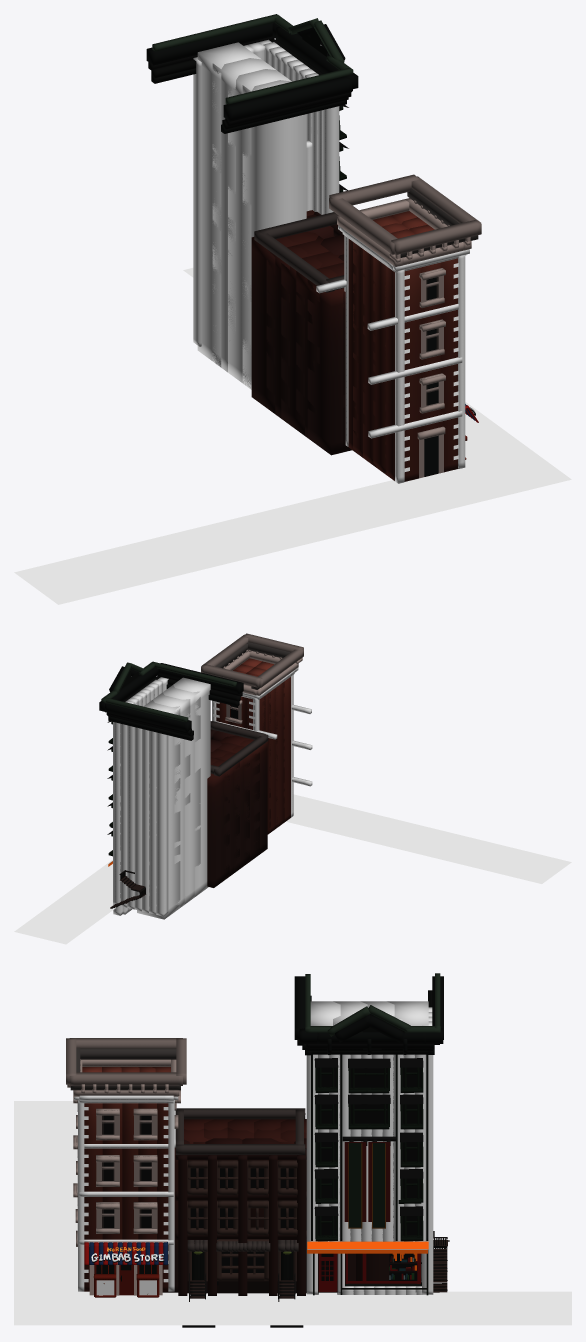
Rendered from Street_Export.fbx.
The picture shows the model from 3 angles, top to bottom: view 1: azimuth 30°, elevation 25°; view 2: azimuth 150°, elevation 25°; view 3: azimuth 270°, elevation 25°; orthographic projection. The views are drawn at different scales.
Visible parts, largest first — view 1: Build3, Road.003, Build2.001, Build1color.001, Building1window.001, Buildwindow, Building1Line, Build2line; view 2: Build3, Road.003, Build2.001, Buildwindow, Build1color.001, Building1window.001, Building1Line, Build2line, Stairs.002; view 3: Road.003, Buildwindow, Build2line, Build3, Building1window.001, Build1color.001, Building1Line, Windoww, Build2.001, Builf3line, Stairs.002, NewLayer1.
Part boxes in pixels (left/top/right/bottom): Build3: left=193, top=39, right=339, bottom=389; Road.003: left=14, top=268, right=571, bottom=604; Build2.001: left=251, top=210, right=351, bottom=455; Build1color.001: left=348, top=211, right=458, bottom=481; Building1window.001: left=329, top=174, right=481, bottom=478; Buildwindow: left=146, top=14, right=358, bottom=192; Building1Line: left=316, top=225, right=469, bottom=483; Build2line: left=254, top=212, right=344, bottom=292; Build3: left=113, top=677, right=210, bottom=919; Road.003: left=14, top=794, right=571, bottom=944; Build2.001: left=207, top=735, right=267, bottom=887; Buildwindow: left=99, top=661, right=243, bottom=856; Build1color.001: left=216, top=658, right=290, bottom=834; Building1window.001: left=201, top=633, right=303, bottom=724; Building1Line: left=212, top=668, right=312, bottom=817; Build2line: left=210, top=721, right=268, bottom=776; Stairs.002: left=110, top=870, right=145, bottom=908; Road.003: left=14, top=1101, right=571, bottom=1325; Buildwindow: left=294, top=973, right=443, bottom=1280; Build2line: left=162, top=1108, right=322, bottom=1295; Build3: left=306, top=1001, right=433, bottom=1294; Building1window.001: left=66, top=1038, right=186, bottom=1295; Build1color.001: left=82, top=1067, right=170, bottom=1291; Building1Line: left=74, top=1095, right=178, bottom=1291; Windoww: left=84, top=1238, right=293, bottom=1297; Build2.001: left=182, top=1119, right=389, bottom=1327; Builf3line: left=307, top=1241, right=428, bottom=1295; Stairs.002: left=189, top=1231, right=449, bottom=1301; NewLayer1: left=91, top=1247, right=164, bottom=1295.
Bounding box in the file's own units: 3738 × 2577 × 3931.
